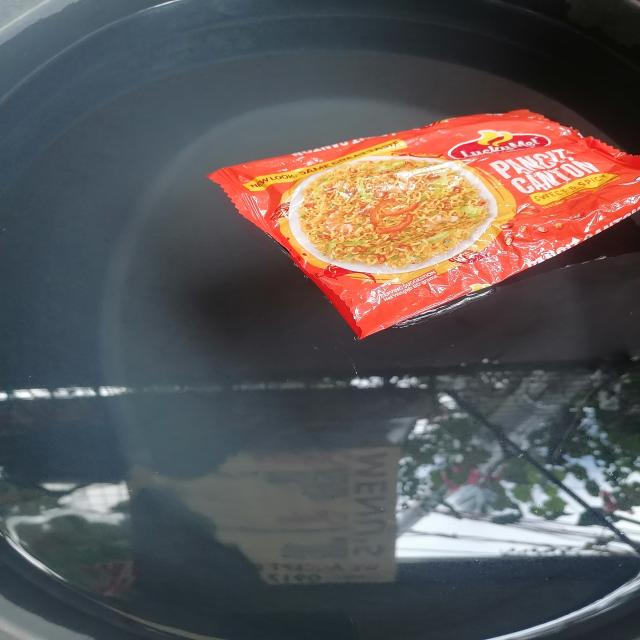Plastic Wrapper: (209, 110, 640, 338)
